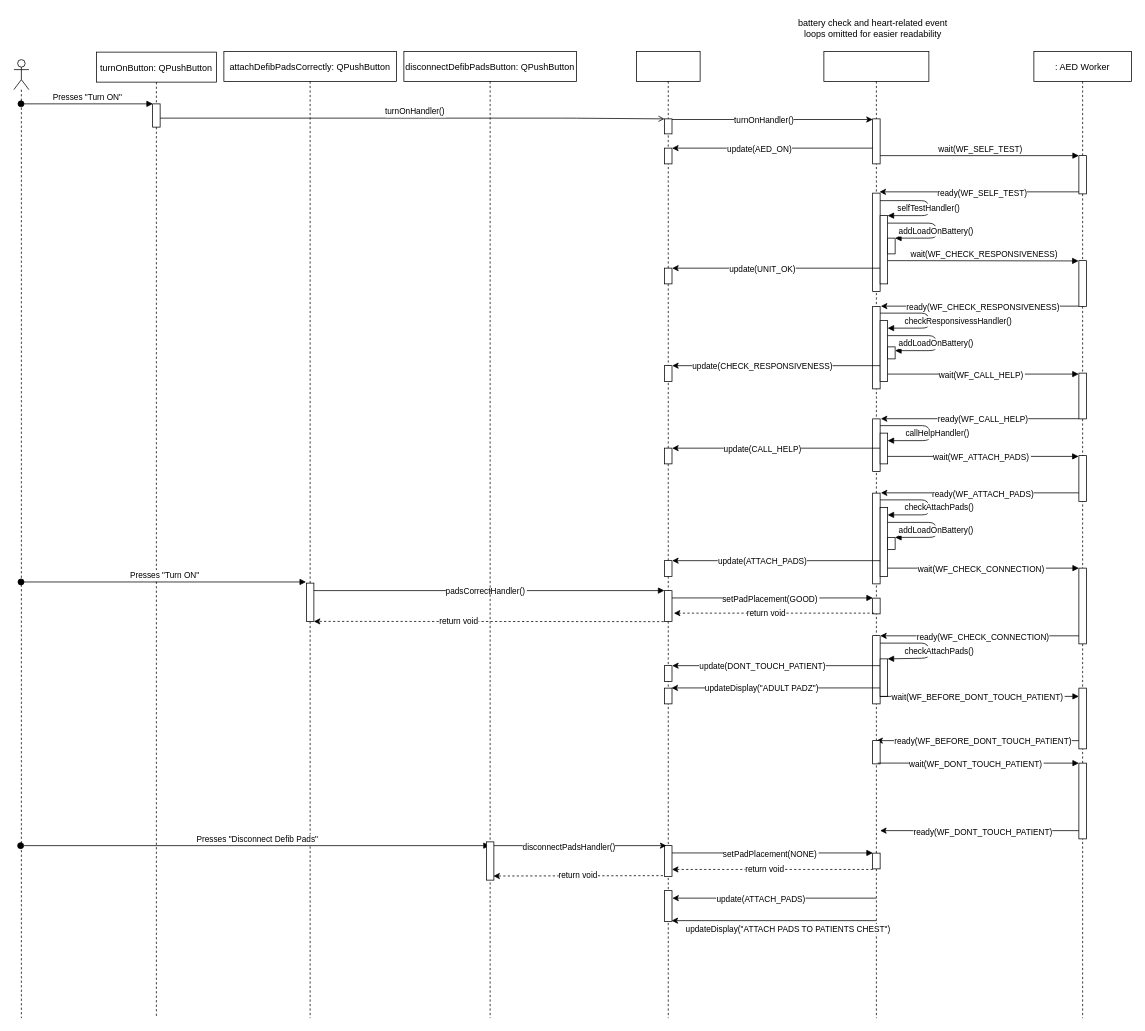
The diagram is 1145 pixels wide and 1031 high, and some of its shapes have lost their labels. The shapes that lost their labels are listed below. From the top down, each one's box as (x1, y1, x2, y2) in pixels, then its label:
(636, 51, 700, 1018): : MainWindow
(823, 51, 929, 1018): : AED
